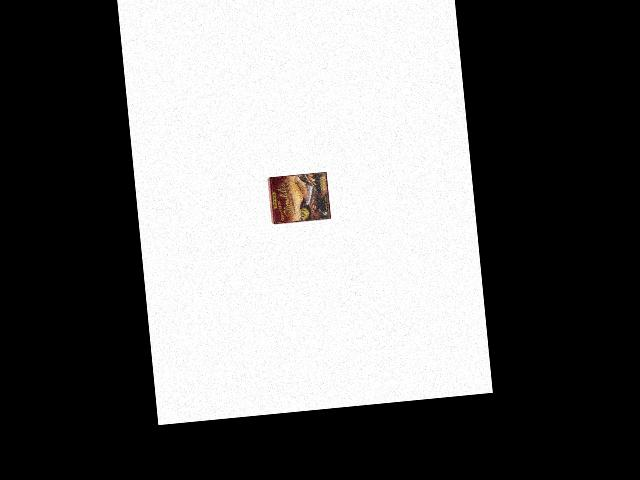chocolate: (267, 172, 331, 224)
